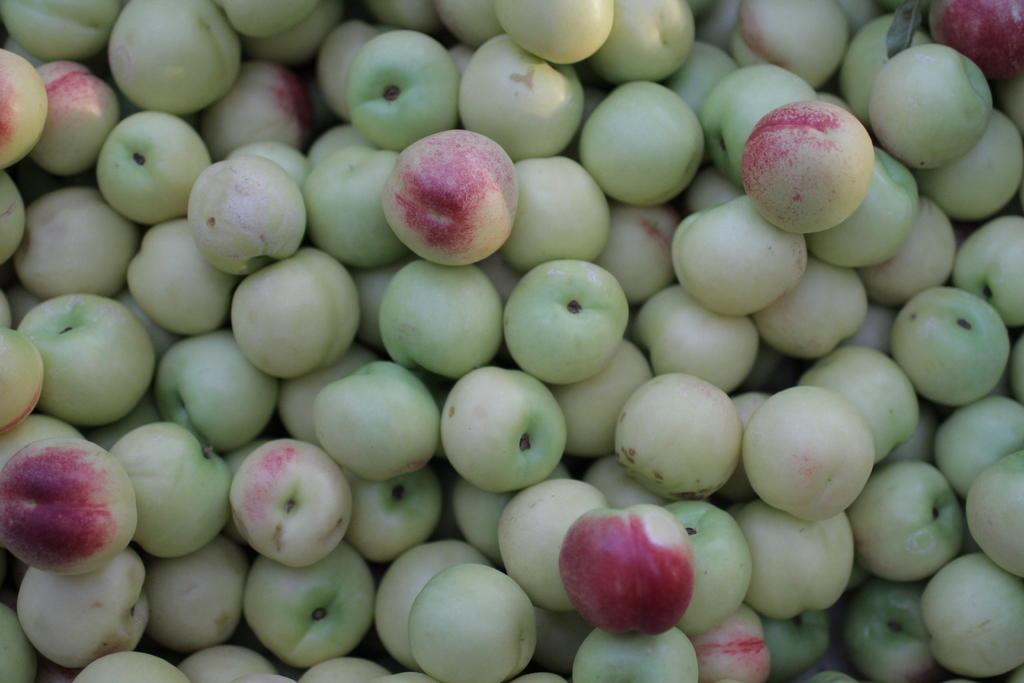Apple: (0, 0, 1023, 682), (556, 497, 712, 651)
